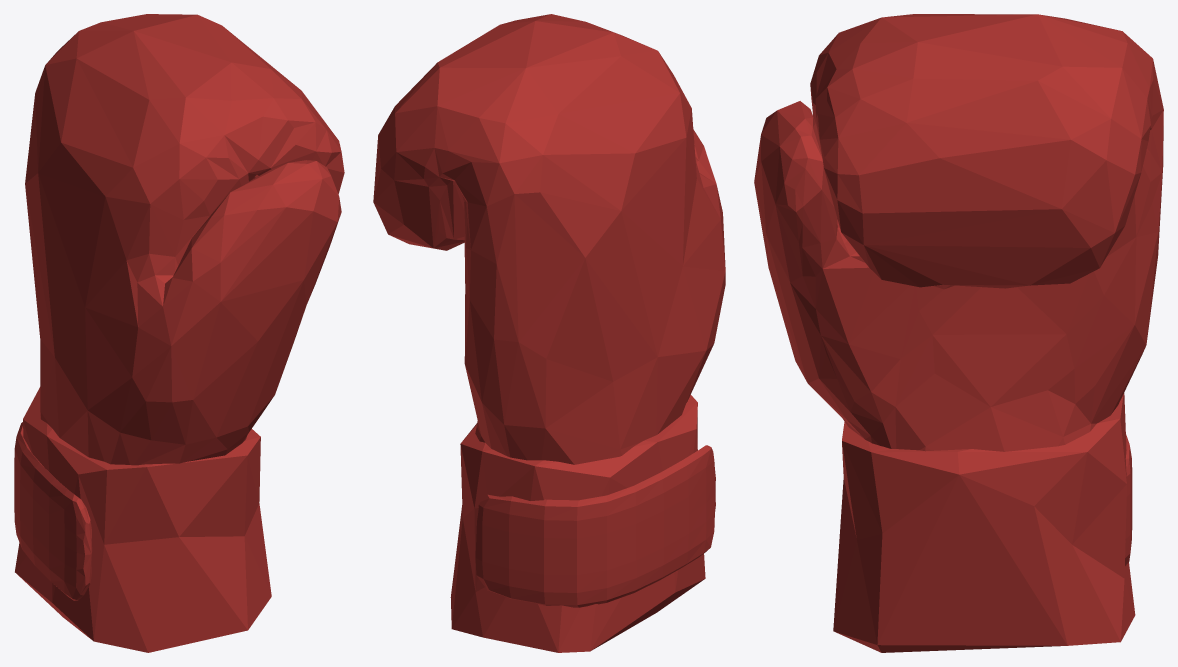
Rendered from boxing_glove.glb.
The picture shows the model from 3 angles, left to right: view 1: azimuth 30°, elevation 25°; view 2: azimuth 150°, elevation 25°; view 3: azimuth 270°, elevation 25°; orthographic projection. The views are drawn at different scales.
Visible parts, largest first — view 1: GloveLP_Cube.001; view 2: GloveLP_Cube.001; view 3: GloveLP_Cube.001.
Boxes of the visible parts, bbox=[...] form: GloveLP_Cube.001: bbox=[14, 14, 344, 652]; GloveLP_Cube.001: bbox=[373, 14, 725, 652]; GloveLP_Cube.001: bbox=[754, 14, 1163, 652].
Size of the model in its own units: 0.606 by 1.23 by 0.7531.
